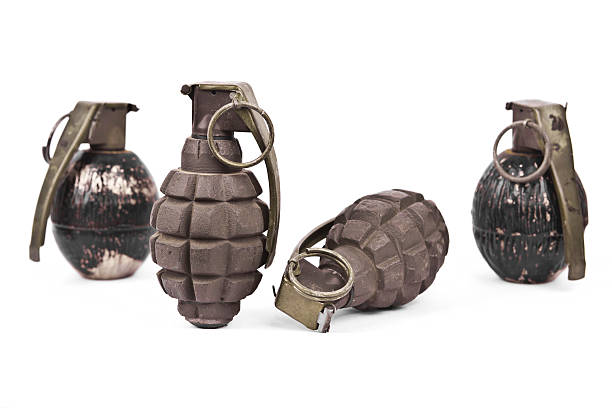e1: (154, 79, 280, 328), (276, 187, 448, 342), (28, 95, 157, 298), (470, 97, 592, 285)
